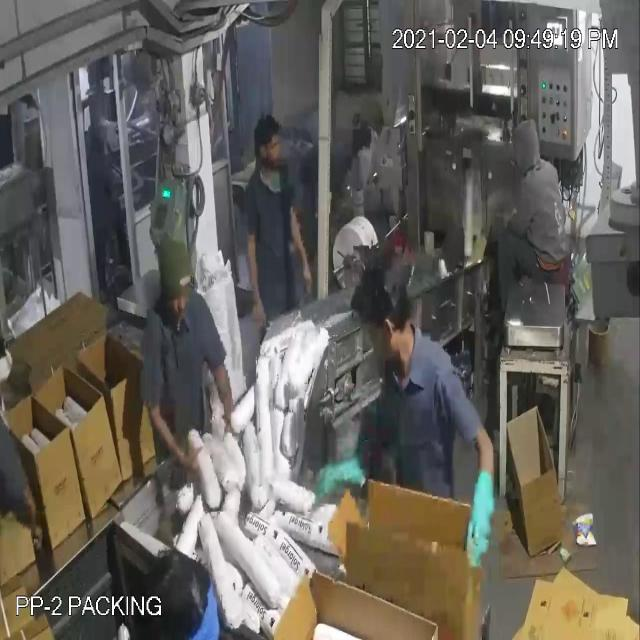gloves: (455, 456, 505, 579), (305, 440, 373, 525)
no-gloves: (128, 398, 210, 487), (281, 193, 323, 300), (238, 224, 274, 341), (205, 351, 239, 443)
